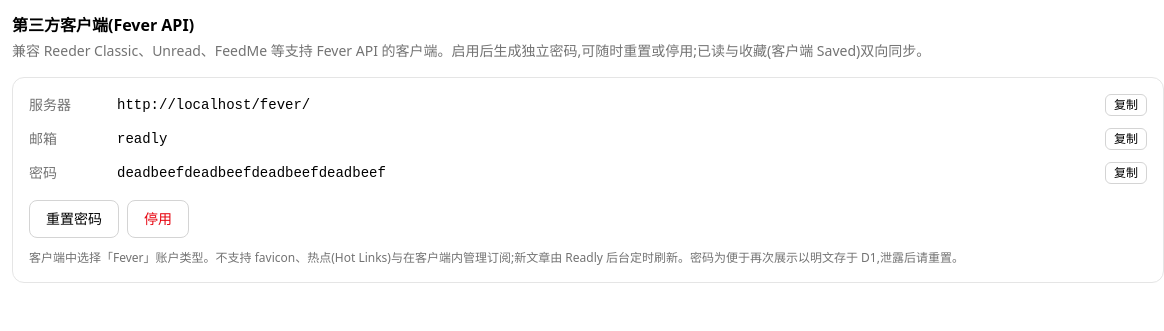
Test case: FeverSettings › 复制按钮写入预期文本
What coordinates should you click on to do the following:
click the button "复制" in the row of "deadbeefdeadbeefdeadbeefdeadbeef"
I would click on:
 (1126, 173)
Its box is [1105, 162, 1147, 184].
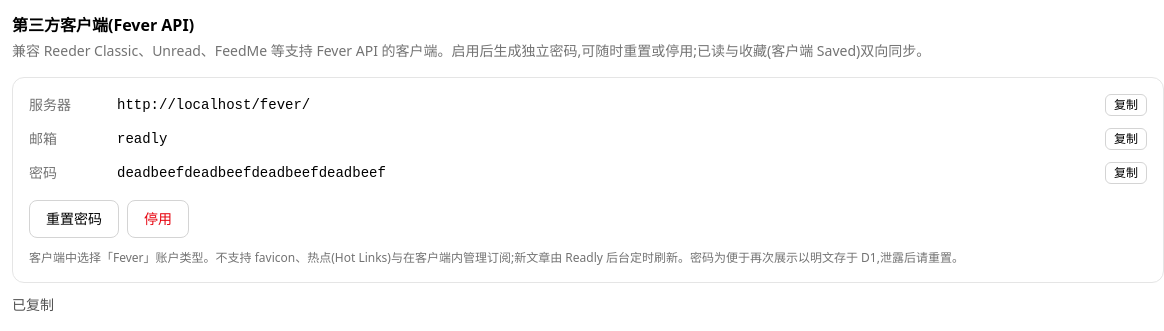
Expected: the text "已复制" is shown, [12, 295, 54, 314]
